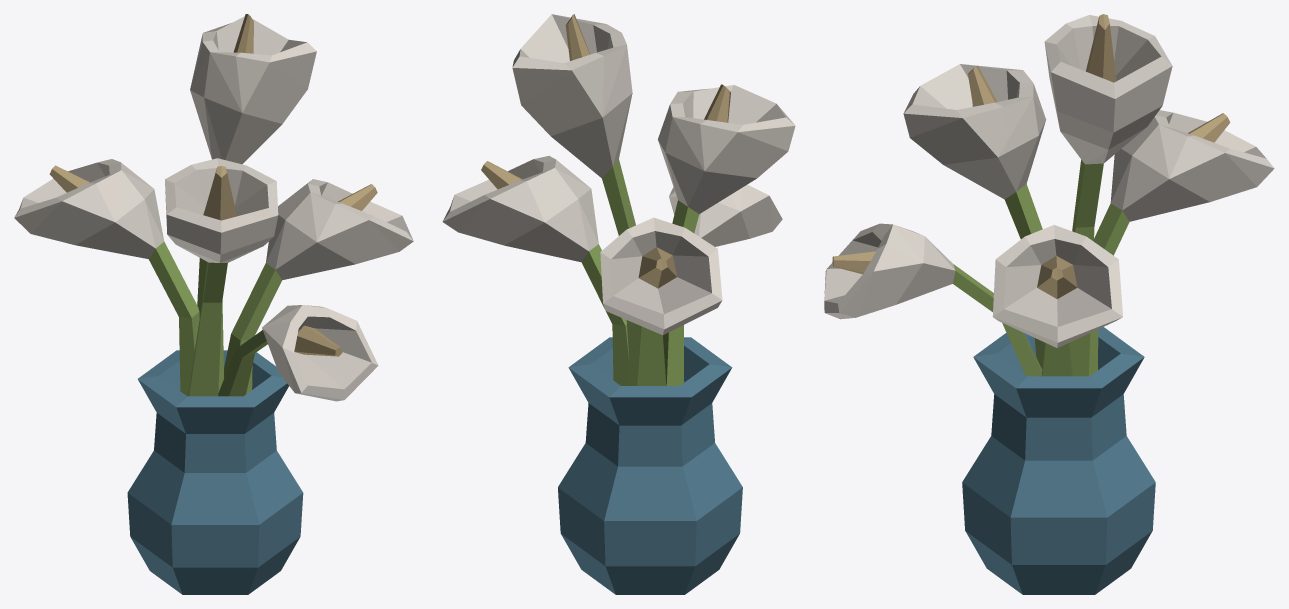
Rendered from SM_Prop_Flowers_02.fbx.
3 renders of one model, left to right at view 1: azimuth 30°, elevation 25°; view 2: azimuth 150°, elevation 25°; view 3: azimuth 270°, elevation 25°, orthographic. The views are drawn at different scales.
Parts seen in each view (by area): view 1: SM_Prop_Flowers_02; view 2: SM_Prop_Flowers_02; view 3: SM_Prop_Flowers_02.
Boxes of the visible parts, x1,y1,x2,y2 form: SM_Prop_Flowers_02: (14,14,413,594); SM_Prop_Flowers_02: (442,14,795,594); SM_Prop_Flowers_02: (824,14,1274,594).
Bounding box in the file's own units: 32.06 × 49.82 × 34.87.
